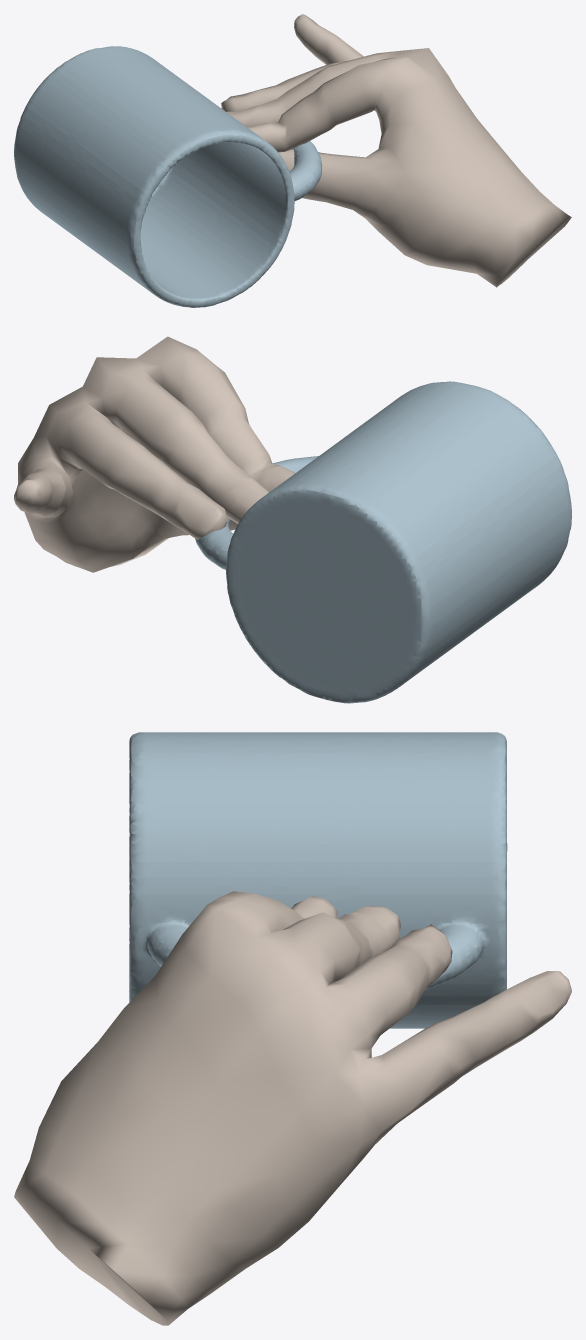
The model's file is pred_33.glb.
3 renders of one model, top to bottom at view 1: azimuth 30°, elevation 25°; view 2: azimuth 150°, elevation 25°; view 3: azimuth 270°, elevation 25°, orthographic. The views are drawn at different scales.
Bounding box in the file's own units: 0.2191 × 0.1073 × 0.1548.
